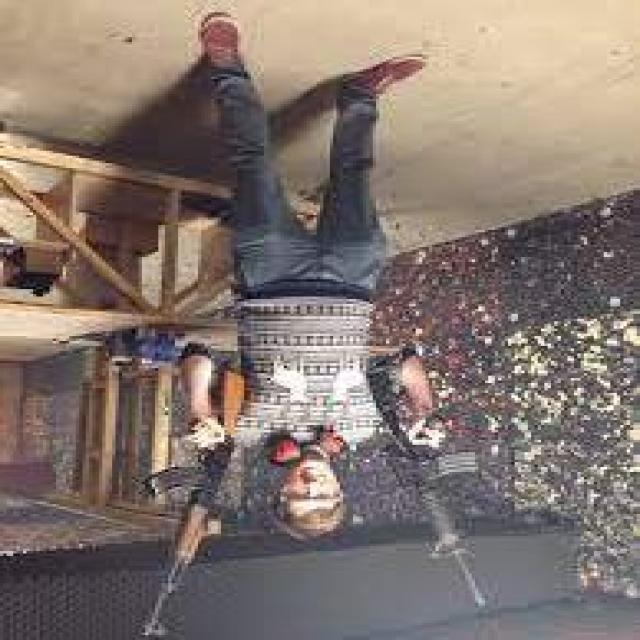weapon: (365, 352, 503, 608), (134, 368, 248, 640)
